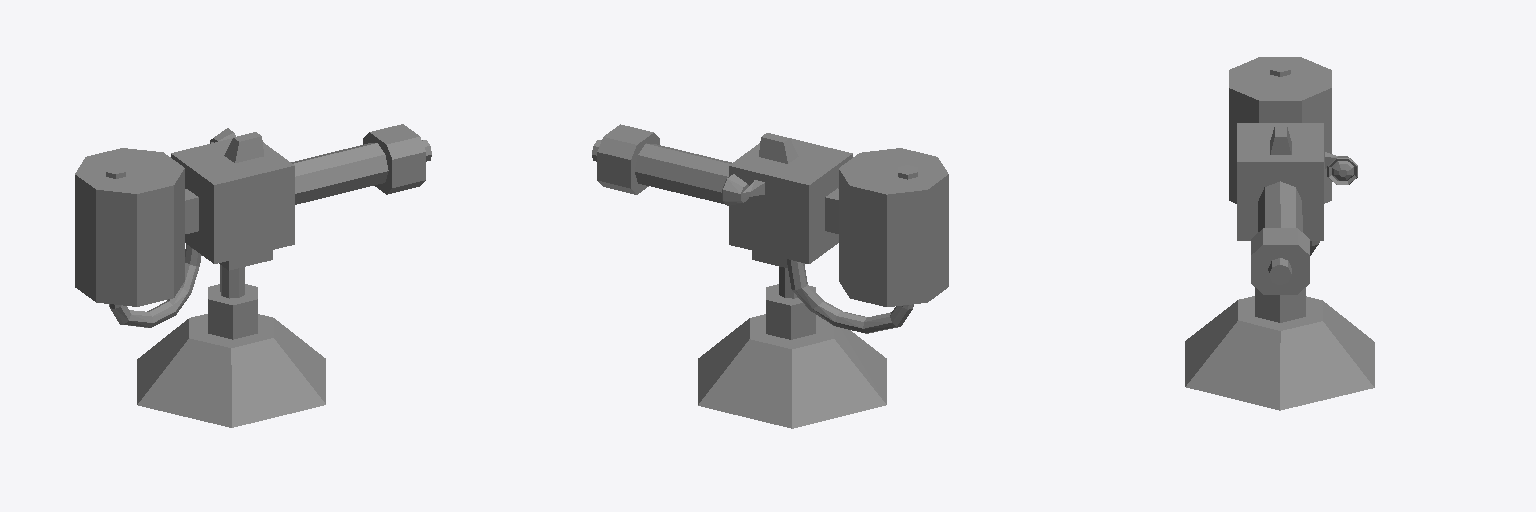
The model's file is turret.obj.
The picture shows the model from 3 angles: view 1: azimuth 30°, elevation 25°; view 2: azimuth 150°, elevation 25°; view 3: azimuth 270°, elevation 25°; orthographic projection.
Visible parts, largest first — view 1: Cylinder005; view 2: Cylinder005; view 3: Cylinder005.
Part boxes in pixels (x1,y1,x2,y2): Cylinder005: (75,124,431,427); Cylinder005: (592,124,948,428); Cylinder005: (1185,57,1374,410).
Size of the model in its own units: 267 by 180 by 128.